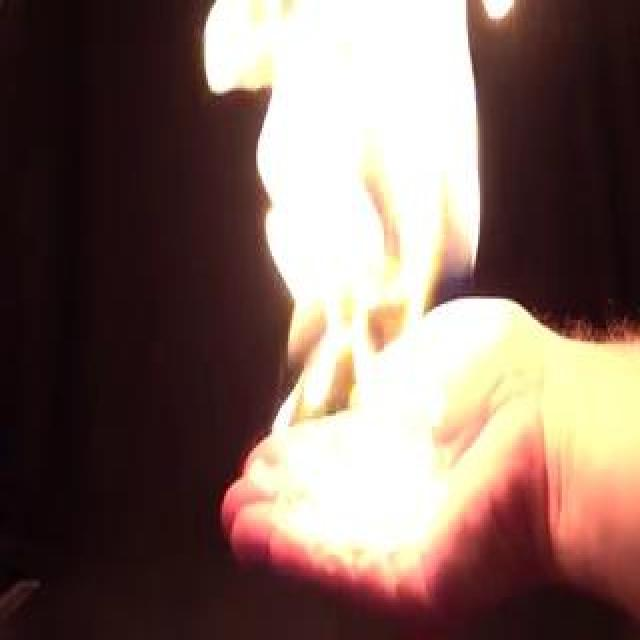Fire: (222, 3, 496, 541)
